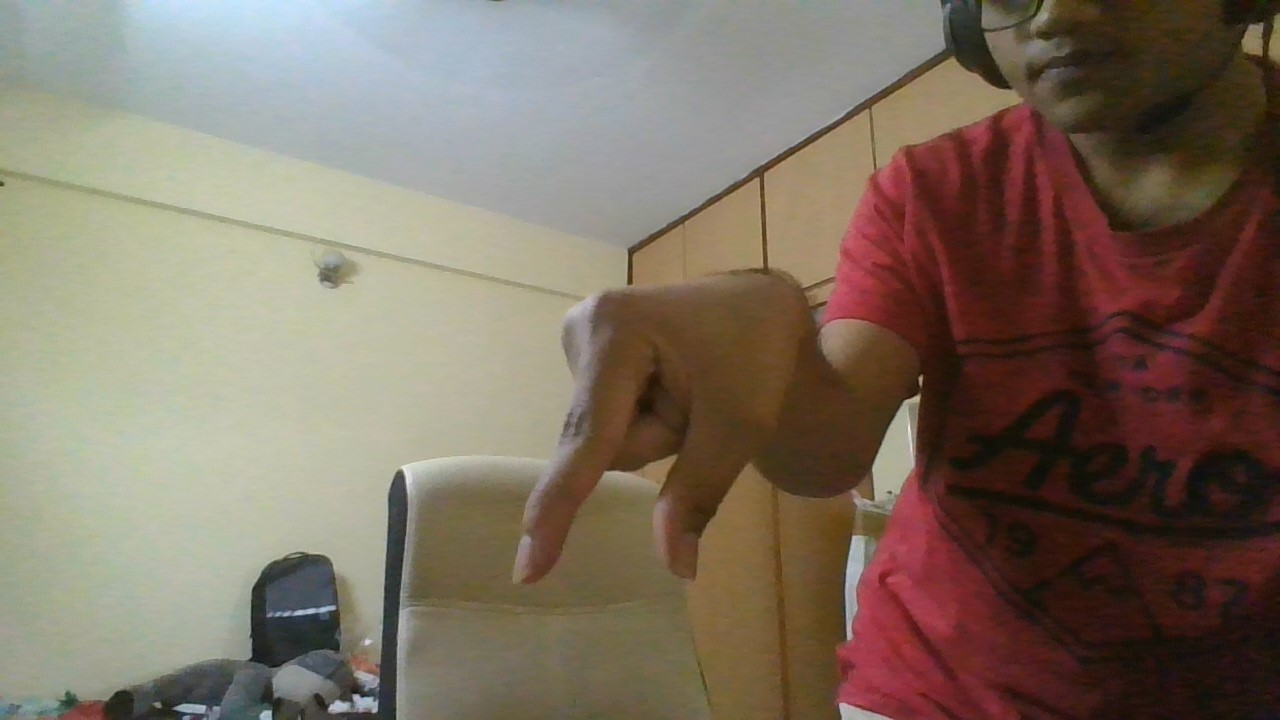q: (508, 269, 809, 588)
